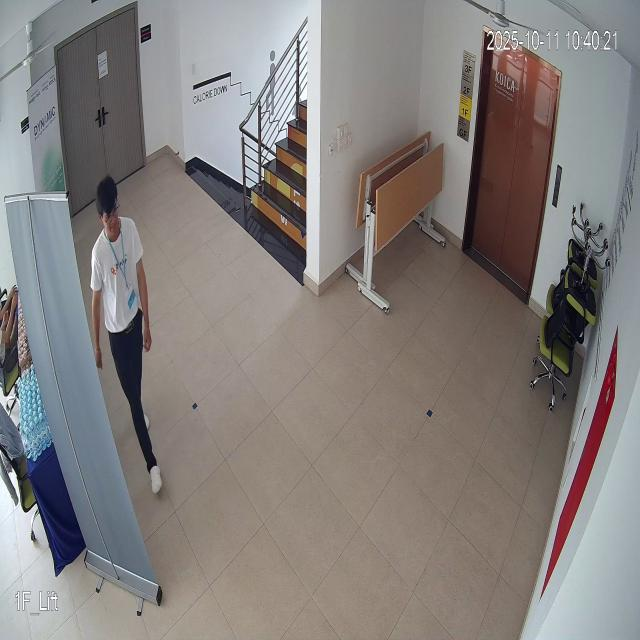face: (91, 165, 123, 246)
